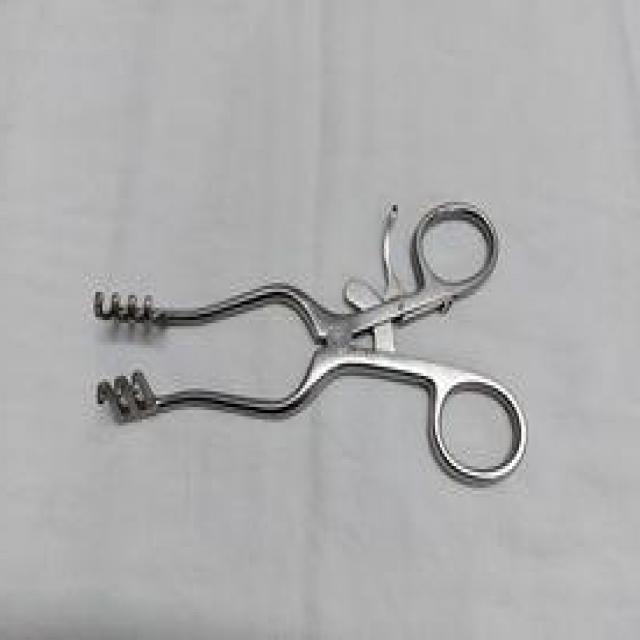Weitlaner: (88, 196, 530, 494)
